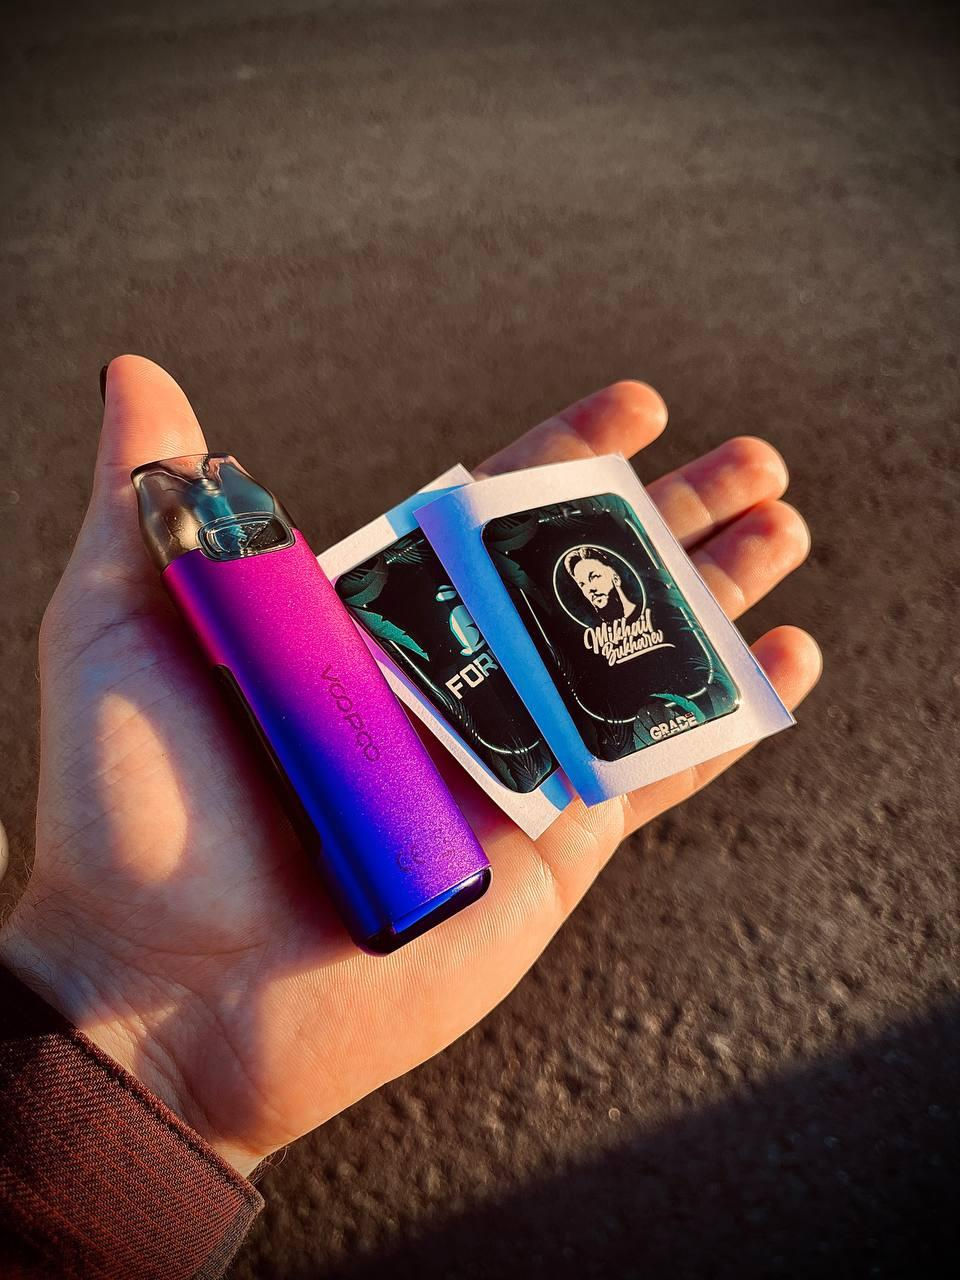Vape: (134, 453, 490, 953)
